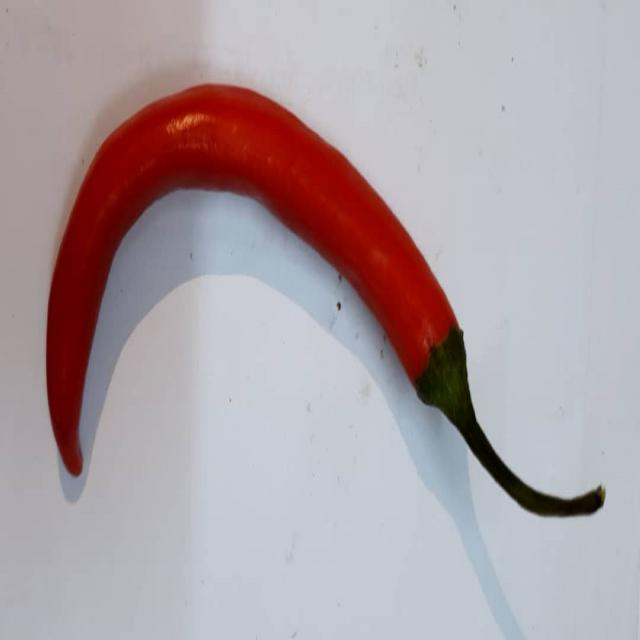red chili: (43, 79, 608, 546)
